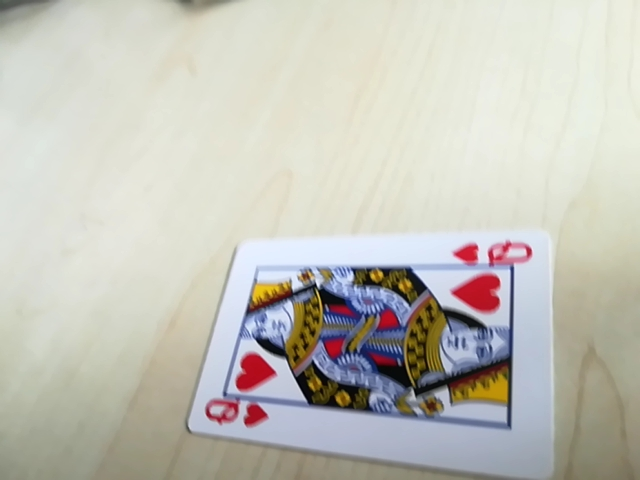hx q: (450, 232, 538, 271), (202, 394, 267, 433)
